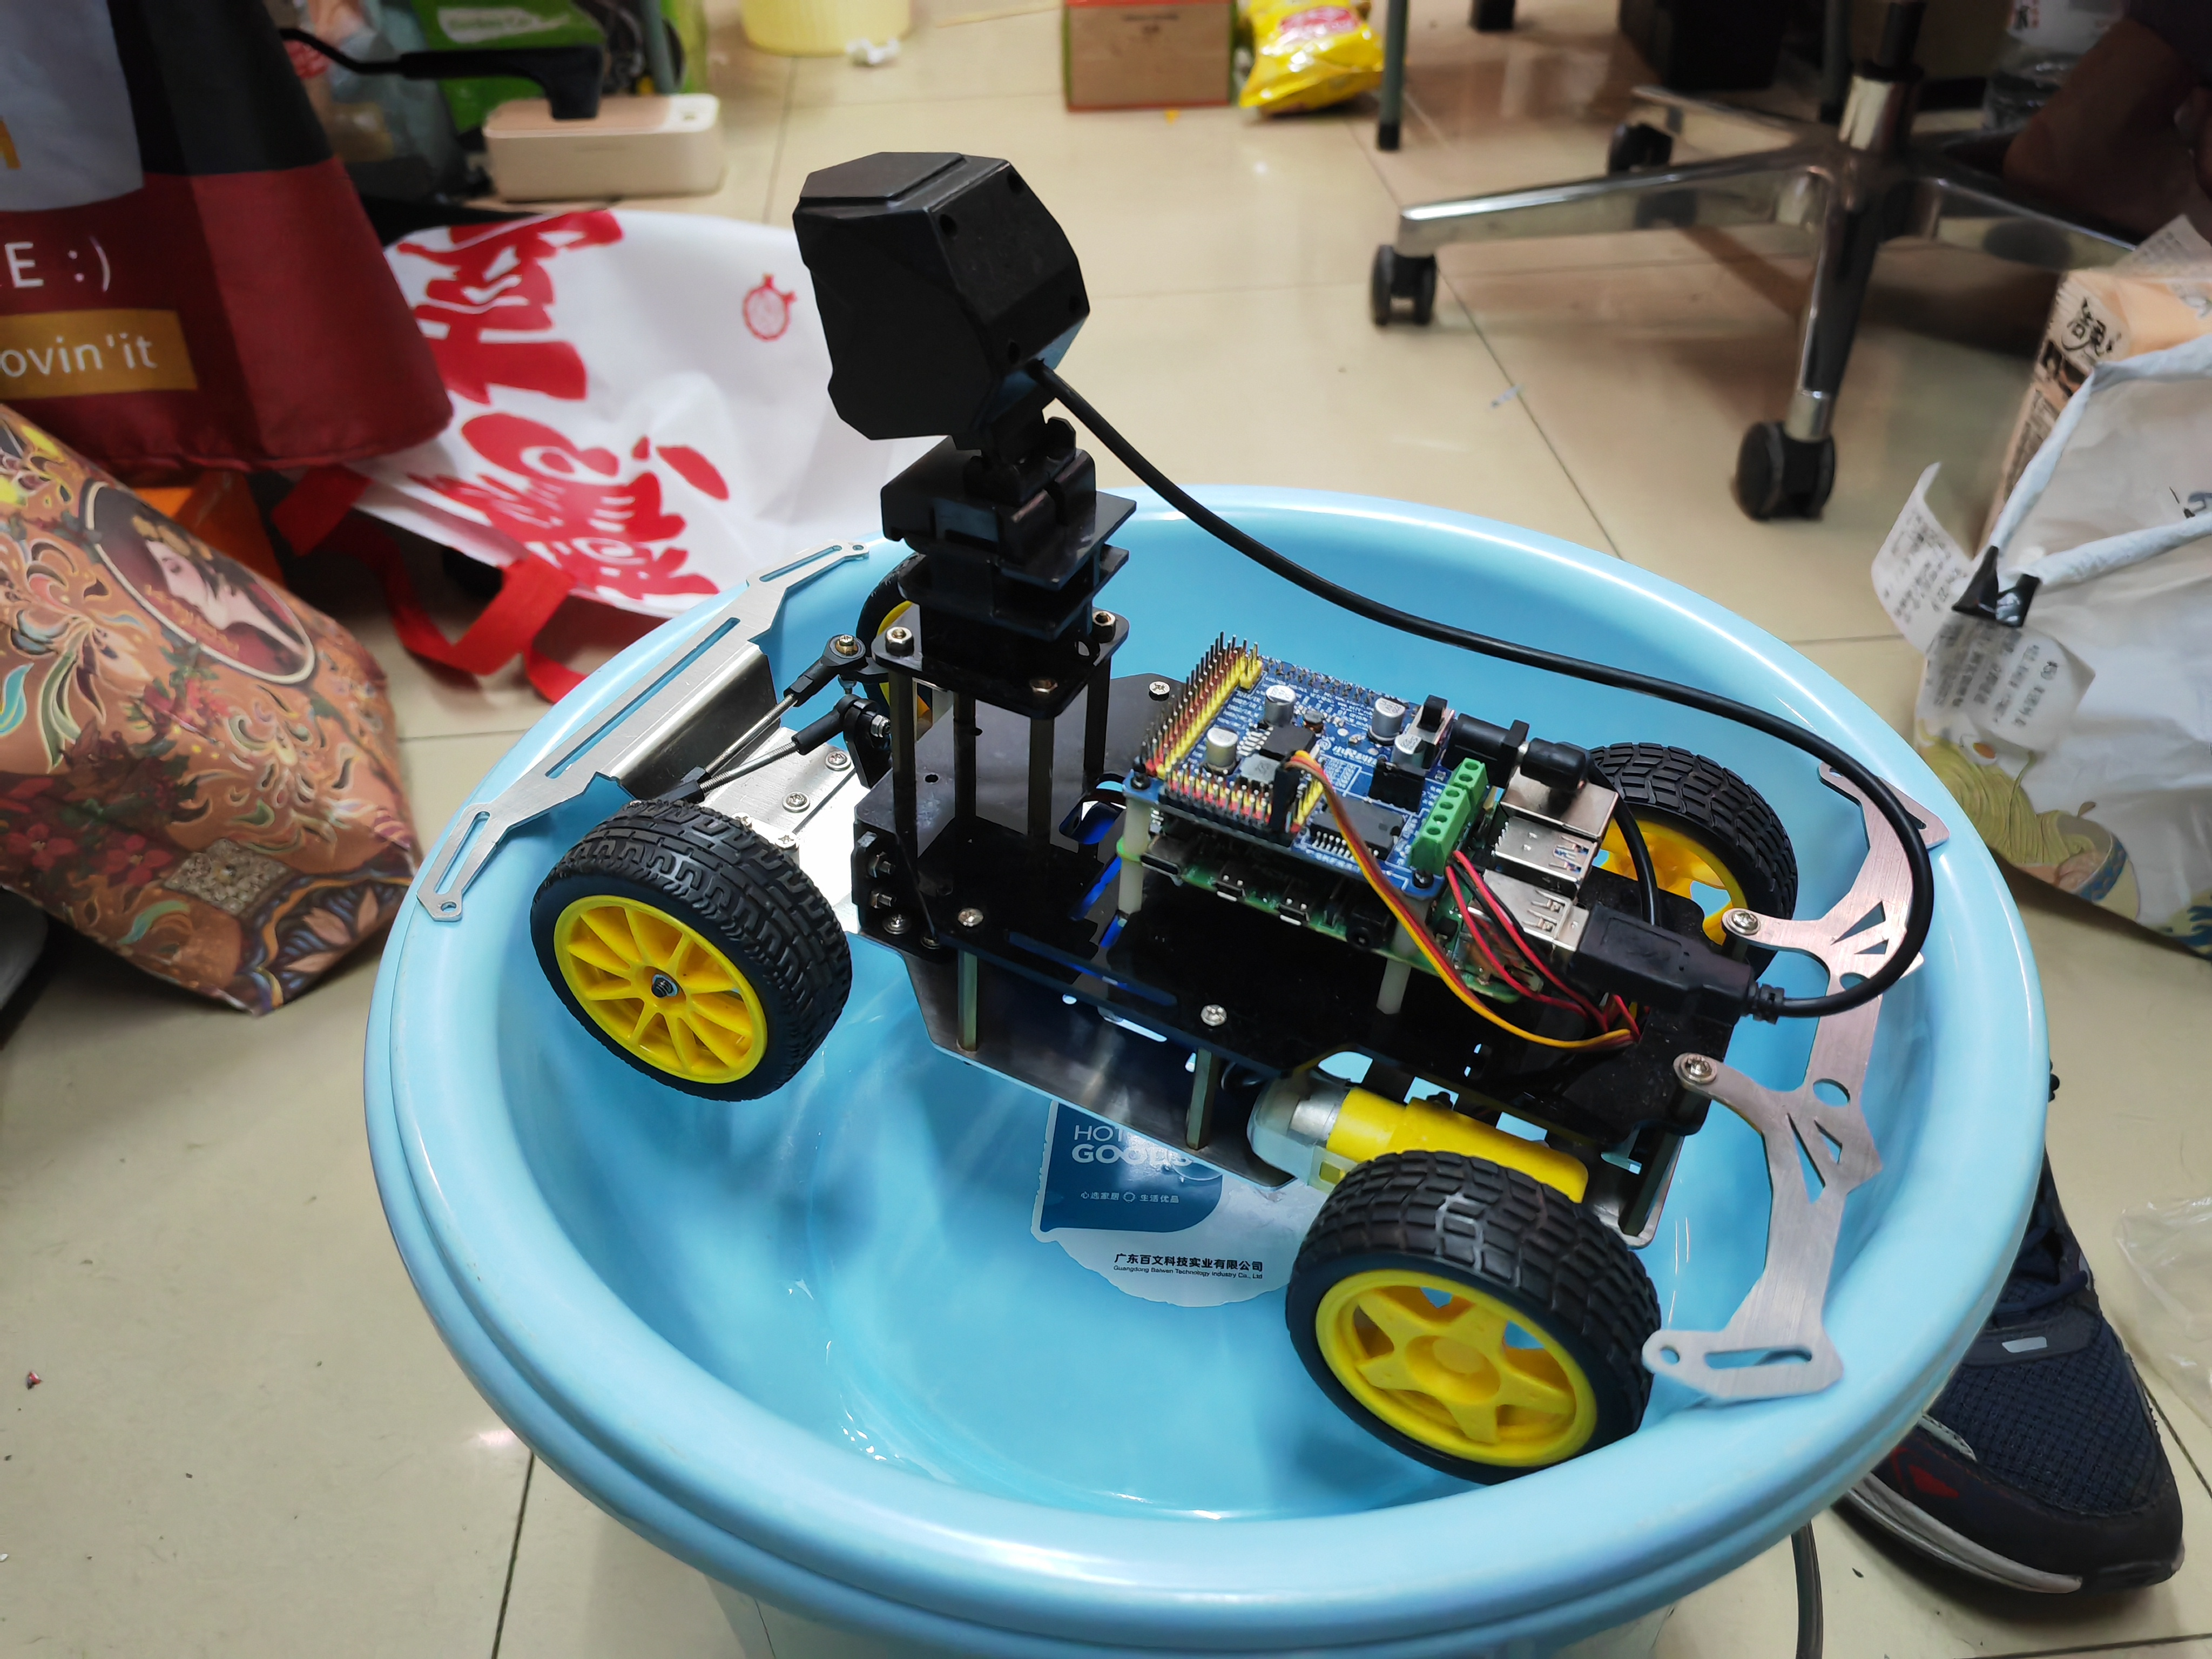car: (528, 139, 1940, 1473)
